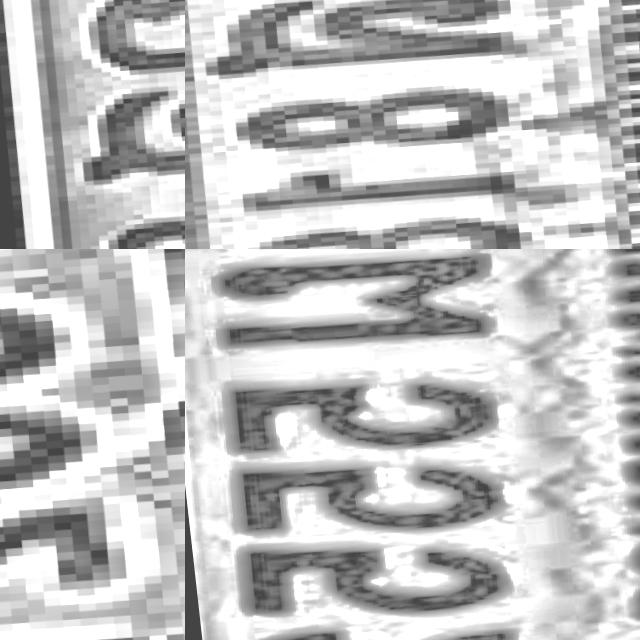license-plate: (185, 249, 640, 640), (185, 0, 640, 249), (0, 249, 185, 640), (0, 0, 185, 249)
